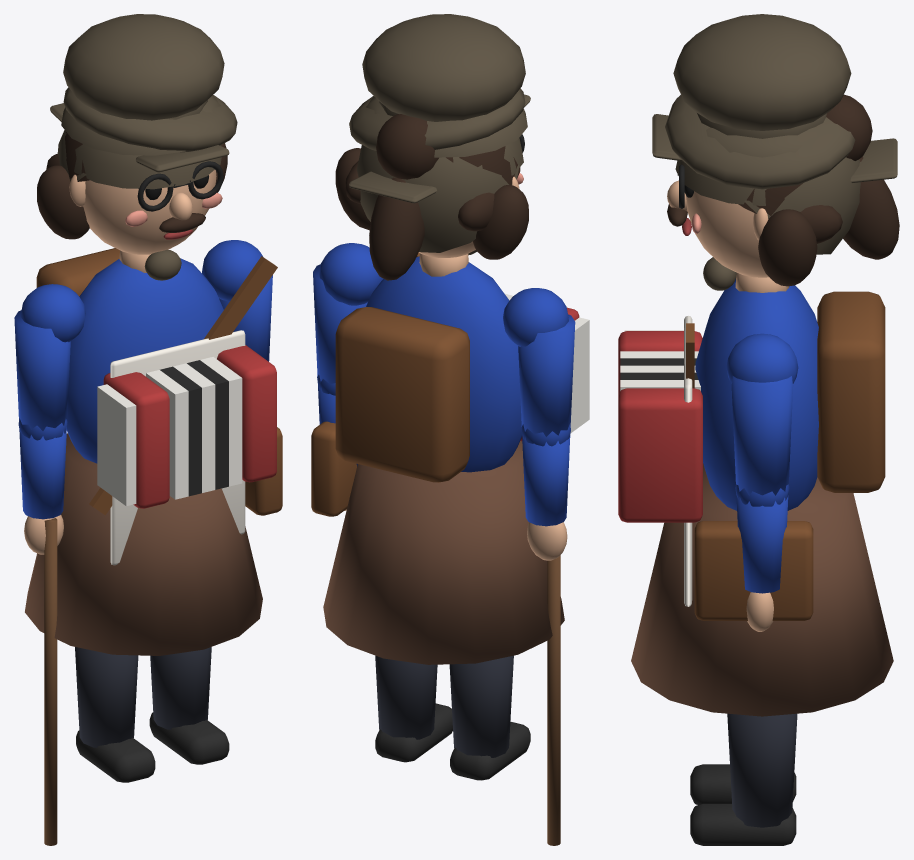
File: people.glb
3 renders of one model, left to right at view 1: azimuth 30°, elevation 25°; view 2: azimuth 150°, elevation 25°; view 3: azimuth 270°, elevation 25°, orthographic. The views are drawn at different scales.
Visible parts, largest first — view 1: skirt, chest, hat_toque_top, accordion, calf_r, upperarm_r, skull, hat_beret, accordion_end_l, accordion_end_r, apron, cane (+23 smaller); view 2: skirt, backpack, hat_toque_top, chest, hat_scarf, calf_r, upperarm_r, calf_l, cane, hair_ponytail, hat_beret, lowerarm_r (+18 smaller); view 3: skirt, hat_toque_top, chest, backpack, accordion_end_l, satchel, hat_beret, calf_l, upperarm_l, skull, lowerarm_l, hair_pigtails_l (+21 smaller).
Part boxes in pixels (x1=…): skirt: x1=25, y1=433, x2=262, y2=655; chest: x1=67, y1=258, x2=223, y2=463; hat_toque_top: x1=63, y1=14, x2=224, y2=120; accordion: x1=146, y1=357, x2=242, y2=499; calf_r: x1=75, y1=647, x2=138, y2=747; upperarm_r: x1=14, y1=310, x2=70, y2=430; skull: x1=83, y1=170, x2=216, y2=254; hat_beret: x1=63, y1=87, x2=237, y2=152; accordion_end_l: x1=217, y1=345, x2=276, y2=482; accordion_end_r: x1=103, y1=372, x2=169, y2=508; apron: x1=110, y1=330, x2=245, y2=565; cane: x1=44, y1=518, x2=57, y2=845; skirt: x1=323, y1=441, x2=564, y2=664; backpack: x1=335, y1=307, x2=469, y2=482; hat_toque_top: x1=362, y1=14, x2=525, y2=121; chest: x1=366, y1=256, x2=521, y2=472; hat_scarf: x1=356, y1=145, x2=519, y2=252; calf_r: x1=449, y1=655, x2=513, y2=757; upperarm_r: x1=518, y1=314, x2=575, y2=436; calf_l: x1=375, y1=655, x2=437, y2=739; cane: x1=547, y1=555, x2=560, y2=845; hair_ponytail: x1=369, y1=177, x2=424, y2=280; hat_beret: x1=349, y1=88, x2=525, y2=150; lowerarm_r: x1=522, y1=433, x2=570, y2=526; skirt: x1=631, y1=463, x2=893, y2=716; hat_toque_top: x1=673, y1=14, x2=851, y2=130; chest: x1=695, y1=280, x2=818, y2=510; backpack: x1=817, y1=291, x2=885, y2=492; accordion_end_l: x1=618, y1=388, x2=702, y2=522; satchel: x1=694, y1=521, x2=813, y2=620; hat_beret: x1=665, y1=95, x2=855, y2=189; calf_l: x1=727, y1=713, x2=797, y2=827; upperarm_l: x1=731, y1=376, x2=793, y2=495; skull: x1=686, y1=191, x2=768, y2=277; lowerarm_l: x1=736, y1=495, x2=788, y2=593; hair_pigtails_l: x1=758, y1=209, x2=817, y2=286.
Size of the model in its own units: 0.748 by 2.24 by 0.6639.
